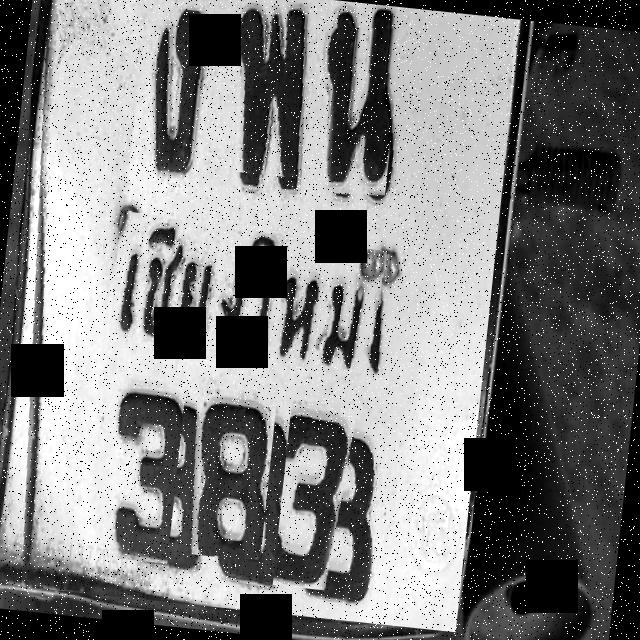letters: (86, 371, 186, 563), (128, 4, 232, 188), (179, 376, 278, 562), (211, 0, 312, 177), (319, 3, 404, 199), (272, 400, 357, 592)
license-plate: (15, 0, 517, 632)
province: (108, 210, 388, 374)
